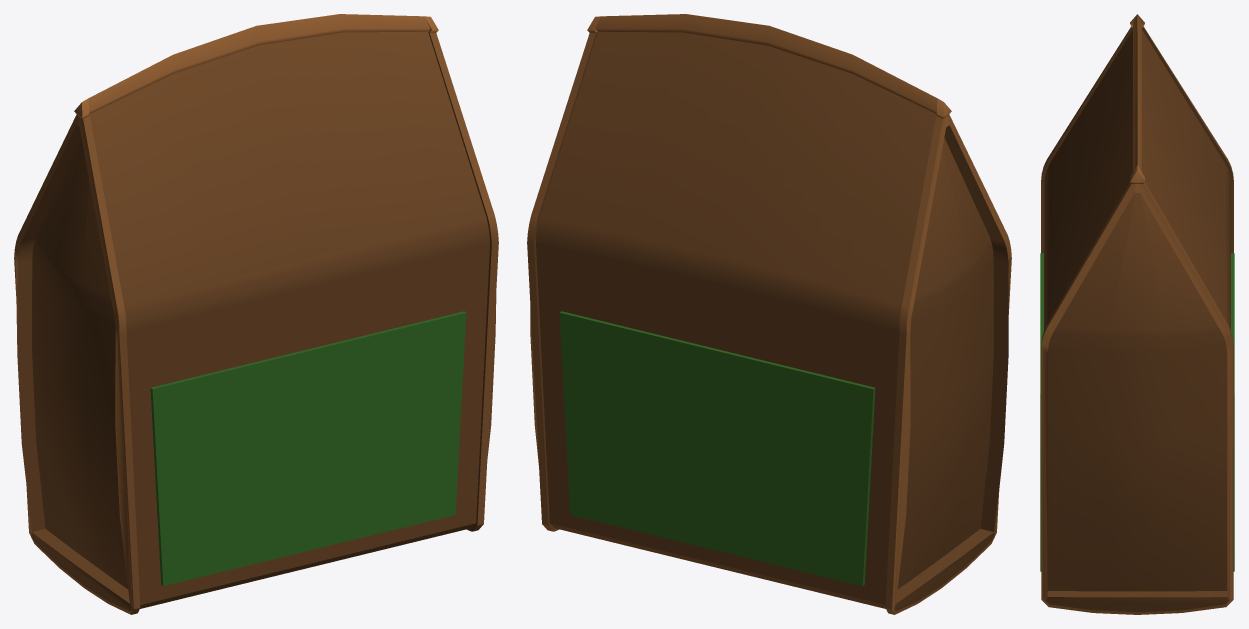
Rendered from Seedbox.fbx.
The picture shows the model from 3 angles, left to right: view 1: azimuth 30°, elevation 25°; view 2: azimuth 150°, elevation 25°; view 3: azimuth 270°, elevation 25°; orthographic projection. The views are drawn at different scales.
Parts seen in each view (by area): view 1: SeedBox; view 2: SeedBox; view 3: SeedBox.
Boxes of the visible parts, left/top/right/bottom form: SeedBox: left=14, top=14, right=498, bottom=614; SeedBox: left=527, top=14, right=1011, bottom=614; SeedBox: left=1040, top=14, right=1234, bottom=614.
Size of the model in its own units: 1.34 by 1.75 by 0.6471.
